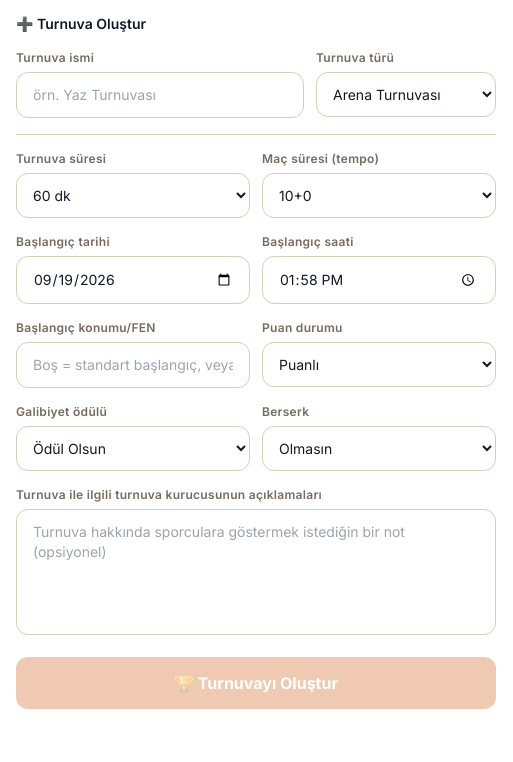
Test case: Turnuva Oluştur — /play/tournament/create › başarısız olunca SUNUCUNUN gerçek hata mesajını gösterir (genel "oluşturulamadı" değil)
Type "X" into the field labelled "Turnuva ismi" at (160, 95), box [16, 72, 304, 118]
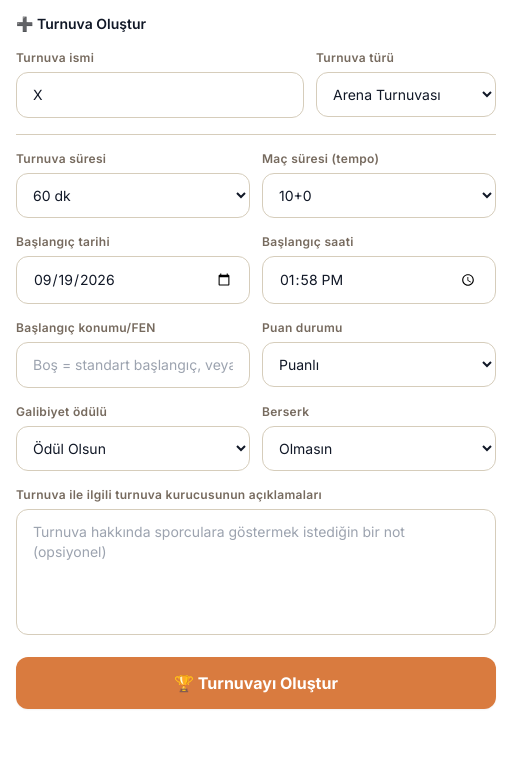
Click the button "🏆 Turnuvayı Oluştur" at (256, 683), box [16, 657, 496, 709]
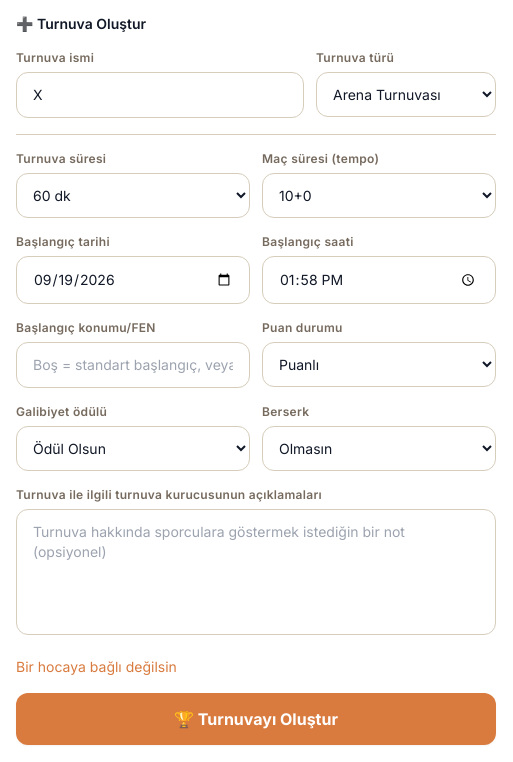
Check: the text "Bir hocaya bağlı değilsin" is shown, box [16, 658, 177, 675]
